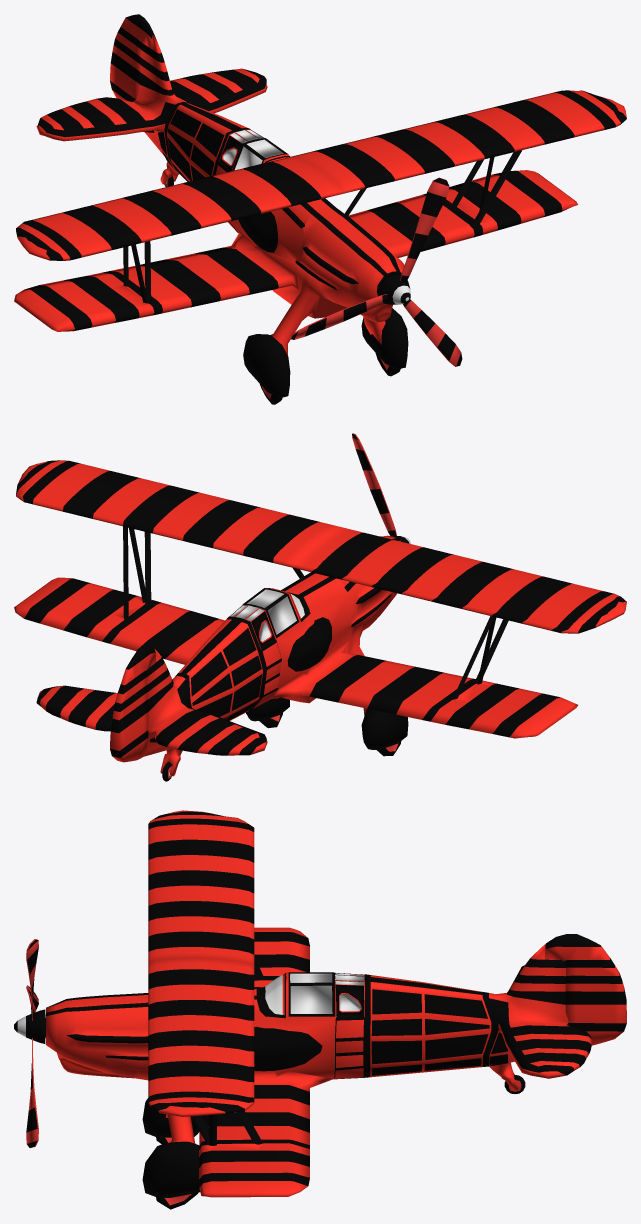
File: Biplane.fbx
3 views of the same model, one above another, from view 1: azimuth 30°, elevation 25°; view 2: azimuth 150°, elevation 25°; view 3: azimuth 270°, elevation 25° (orthographic). The views are drawn at different scales.
Visible parts, largest first — view 1: Plane, Cube, Back_Swing; view 2: Plane, Back_Swing, Cube; view 3: Plane, Back_Swing, Cube.
Boxes of the visible parts, left/top/right/bottom form: Plane: left=14, top=34, right=626, bottom=397; Cube: left=290, top=177, right=462, bottom=366; Back_Swing: left=110, top=14, right=153, bottom=101; Plane: left=14, top=460, right=626, bottom=776; Back_Swing: left=110, top=645, right=156, bottom=762; Cube: left=352, top=433, right=410, bottom=543; Plane: left=45, top=810, right=592, bottom=1197; Back_Swing: left=545, top=934, right=626, bottom=1045; Cube: left=14, top=939, right=45, bottom=1147.
Size of the model in its own units: 650 by 554 by 261.
